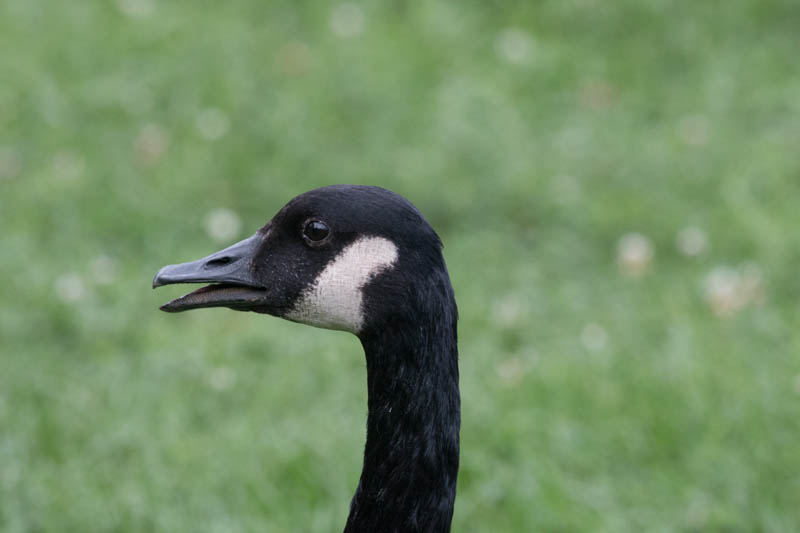goose-head: (151, 184, 459, 337)
